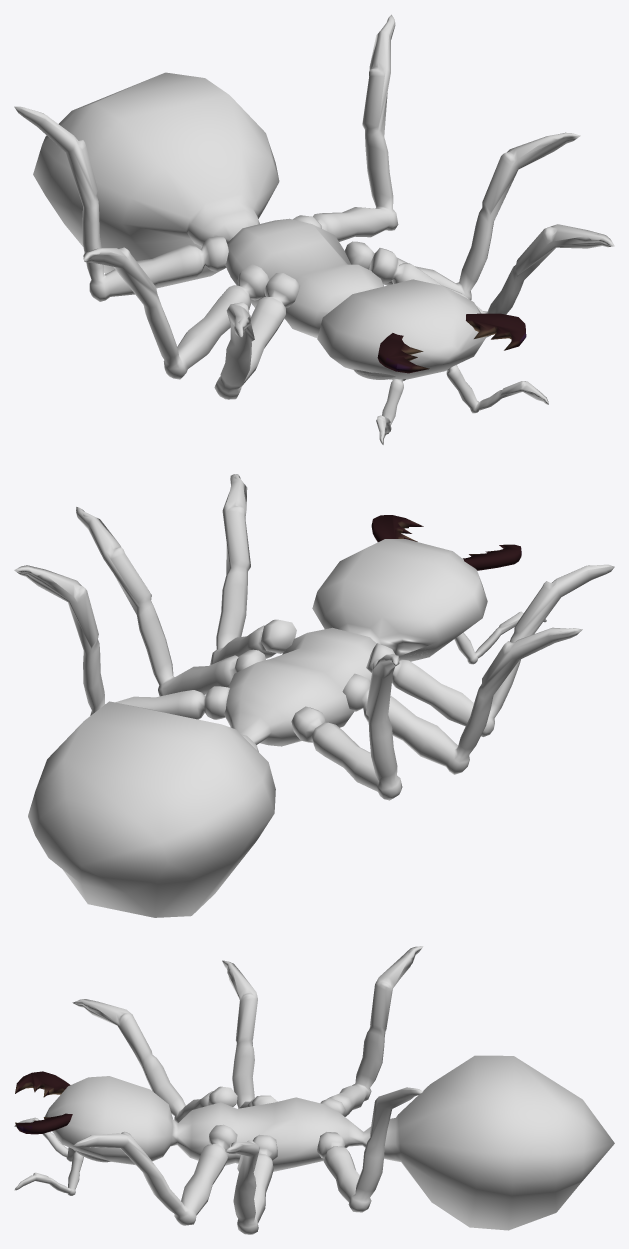
The model's file is Ant.fbx.
3 views of the same model, one above another, from view 1: azimuth 30°, elevation 25°; view 2: azimuth 150°, elevation 25°; view 3: azimuth 270°, elevation 25° (orthographic). The views are drawn at different scales.
Parts seen in each view (by area): view 1: Ant; view 2: Ant; view 3: Ant.
Boxes of the visible parts, box(x1,y1,x2,y2) form: Ant: box(14, 14, 614, 444); Ant: box(14, 474, 614, 917); Ant: box(14, 946, 614, 1234).
Size of the model in its own units: 827 by 398 by 1094.
